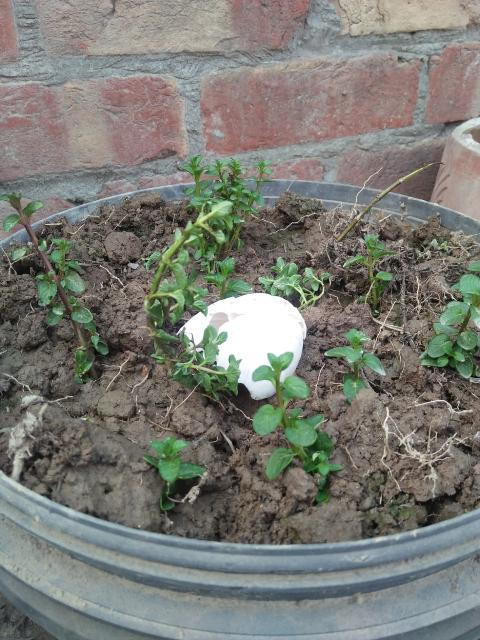Roto: (175, 292, 307, 401)
